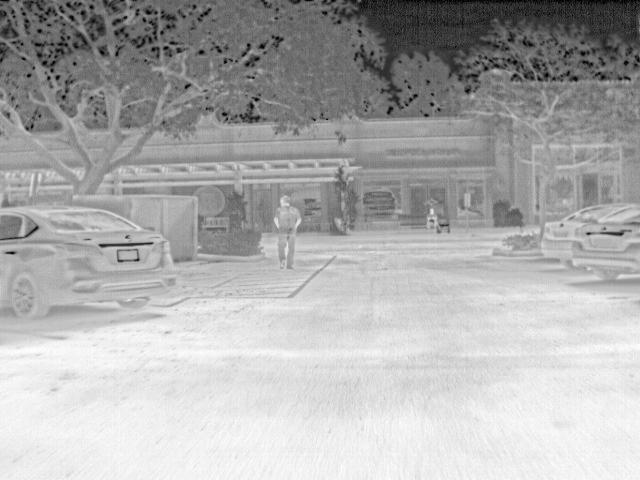car: (1, 205, 180, 319), (539, 204, 630, 269), (570, 203, 640, 283)
person: (274, 194, 304, 272), (426, 206, 438, 232)
